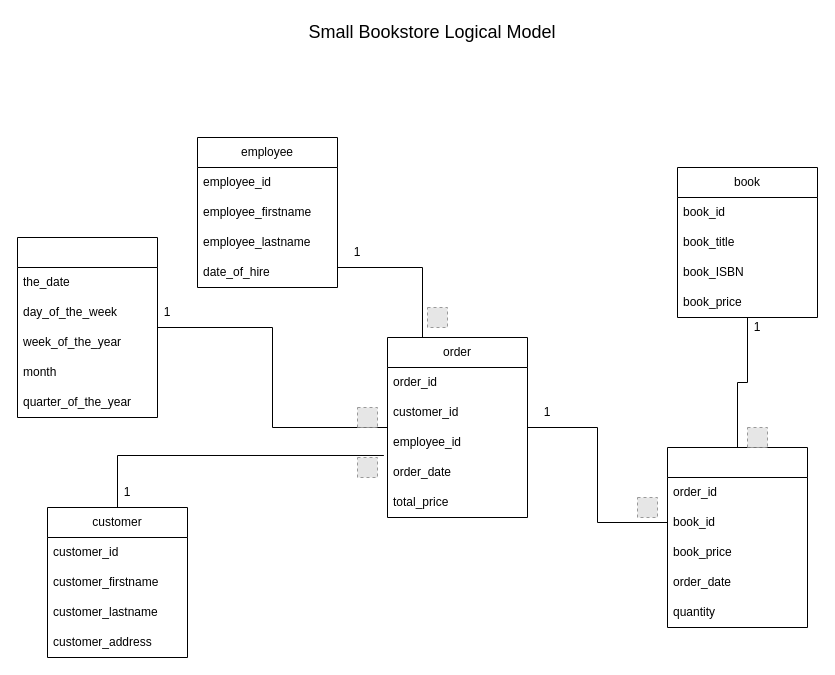
This 835x675 diagram has some shape labels left out. Grey dashed boxes stand in for pictures. The box of each missing label's shape, as (x1, y1, x2, y2) in pixels:
calendar: (16, 236, 158, 418)
sales: (666, 446, 808, 628)
